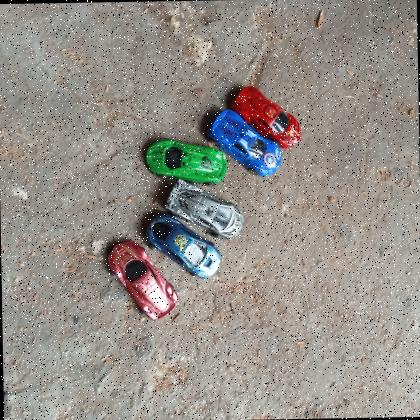Car: (102, 238, 179, 322), (208, 107, 284, 179), (142, 212, 222, 280), (164, 178, 246, 241), (229, 84, 303, 150), (142, 136, 228, 184)
